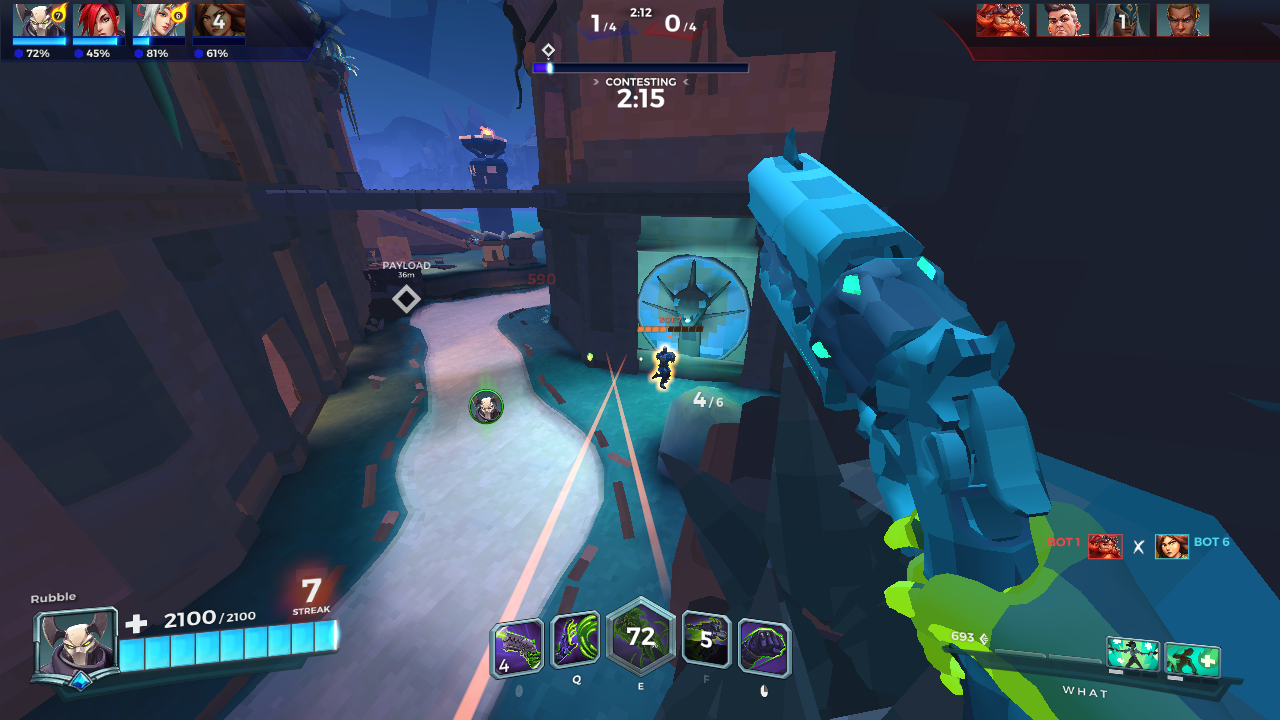model: (649, 345, 678, 394)
